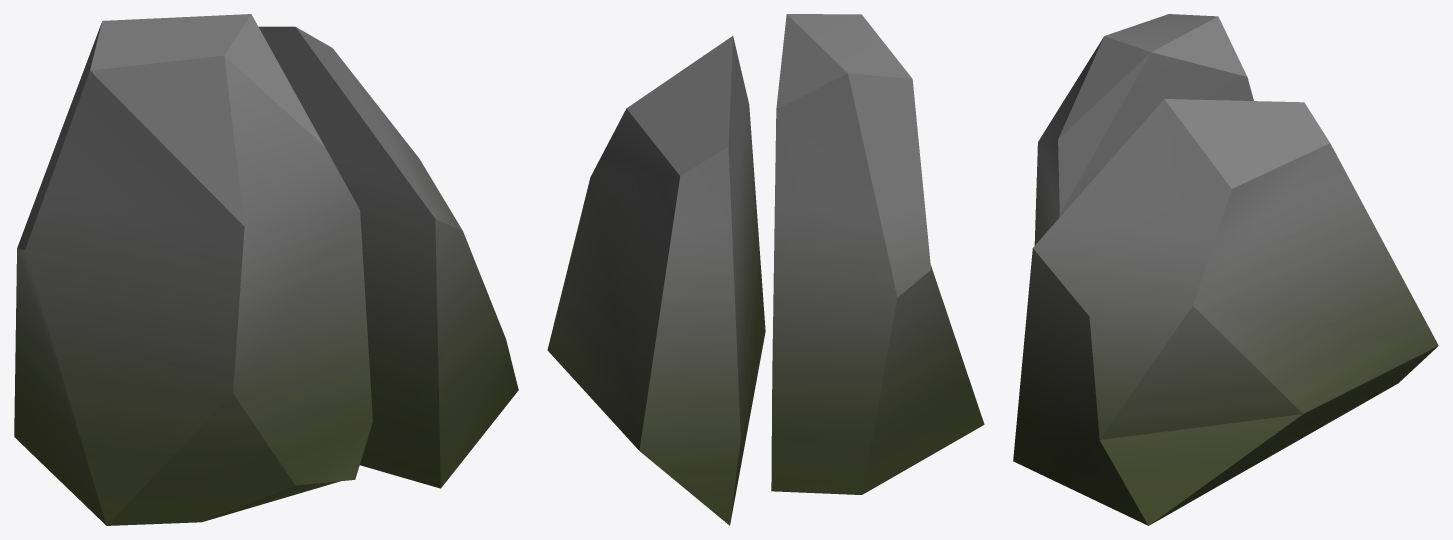
The model's file is ea_environment_stone_moss_01b_pre__17__lev1.glb.
The picture shows the model from 3 angles, left to right: view 1: azimuth 30°, elevation 25°; view 2: azimuth 150°, elevation 25°; view 3: azimuth 270°, elevation 25°; orthographic projection. The views are drawn at different scales.
Visible parts, largest first — view 1: ea_environment_stone_moss_01b_pre__17__lev1; view 2: ea_environment_stone_moss_01b_pre__17__lev1; view 3: ea_environment_stone_moss_01b_pre__17__lev1.
Part boxes in pixels (box(x1,y1,x2,y2)): ea_environment_stone_moss_01b_pre__17__lev1: box(14, 14, 518, 525); ea_environment_stone_moss_01b_pre__17__lev1: box(547, 14, 984, 525); ea_environment_stone_moss_01b_pre__17__lev1: box(1013, 14, 1438, 525).
Bounding box in the file's own units: 1.82 × 1.66 × 1.75.
1 material, 1 textured.
